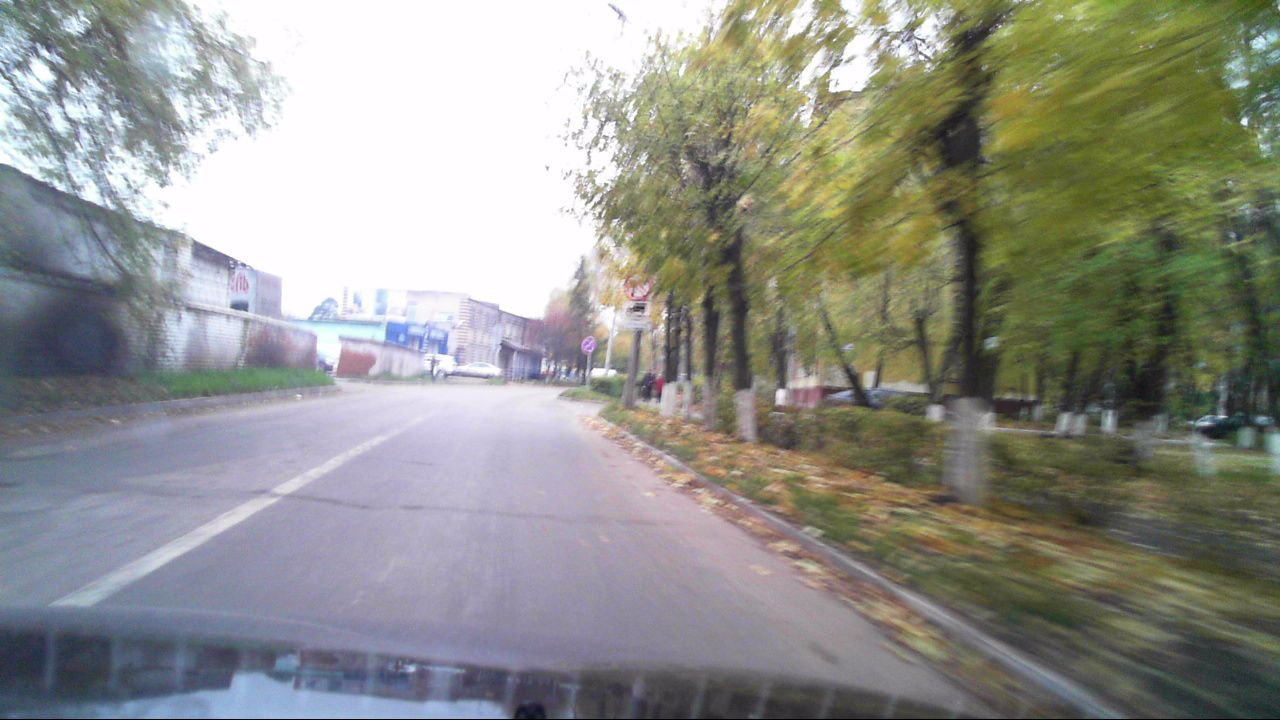No Parking: (581, 337, 597, 356)
